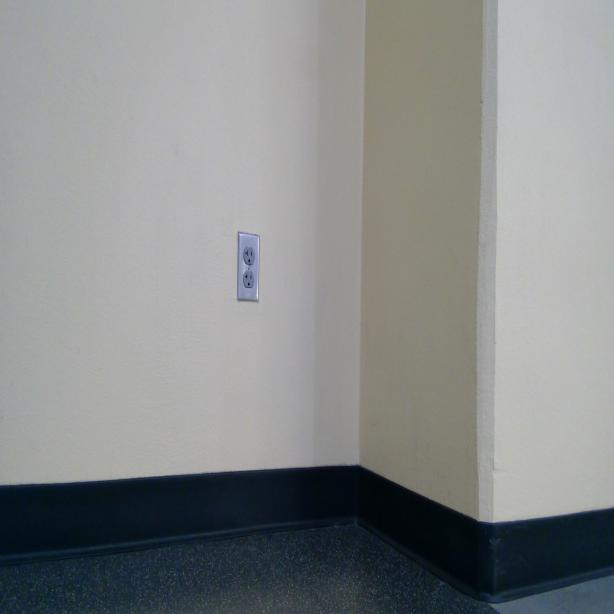typeb: (243, 247, 254, 266), (244, 270, 253, 289)
